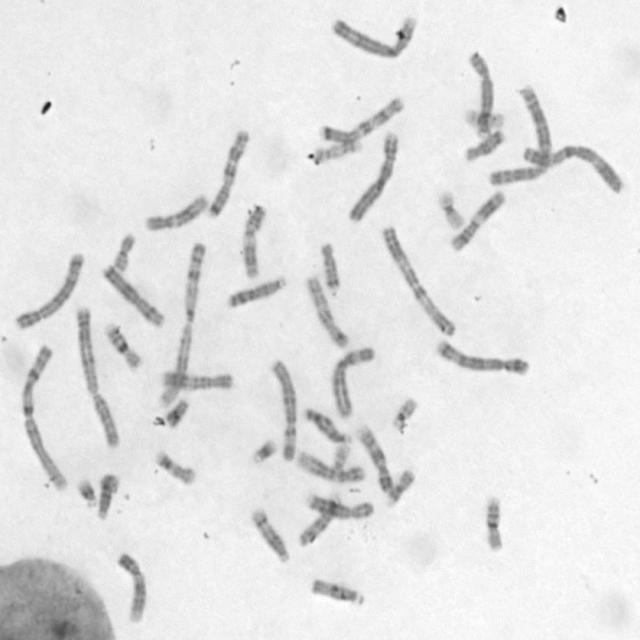A1: (154, 238, 210, 414), (18, 340, 71, 494)
A2: (484, 82, 554, 187), (72, 302, 121, 450)
A3: (379, 222, 458, 338), (518, 140, 624, 196)
B4: (345, 128, 400, 224), (329, 11, 419, 60)
B5: (12, 248, 86, 332), (433, 336, 531, 377)
C10: (303, 273, 350, 349), (157, 367, 235, 392)
C11: (447, 187, 507, 253), (238, 200, 268, 281)
C12: (142, 190, 210, 232), (293, 447, 366, 484)
C6: (330, 344, 377, 420), (267, 354, 299, 464)
C7: (317, 91, 405, 152), (203, 125, 250, 219)
C8: (466, 47, 496, 141), (302, 490, 374, 521)
C9: (352, 421, 398, 497), (112, 549, 148, 624)
D13: (224, 274, 288, 309), (301, 404, 354, 445)
D14: (248, 504, 290, 564), (95, 472, 121, 521)
D15: (295, 494, 340, 552), (308, 574, 366, 607)
E16: (102, 319, 143, 371), (481, 493, 506, 554)
E17: (151, 445, 198, 487), (310, 133, 363, 163)
E18: (462, 127, 506, 163), (317, 238, 342, 292)
F19: (434, 187, 468, 231), (461, 104, 505, 131)
F20: (384, 464, 416, 507), (110, 229, 136, 273)
G21: (248, 434, 280, 465), (74, 474, 98, 509)
G22: (389, 394, 418, 430), (328, 442, 352, 481)
X: (98, 262, 166, 328)
Y: (162, 394, 190, 428)
